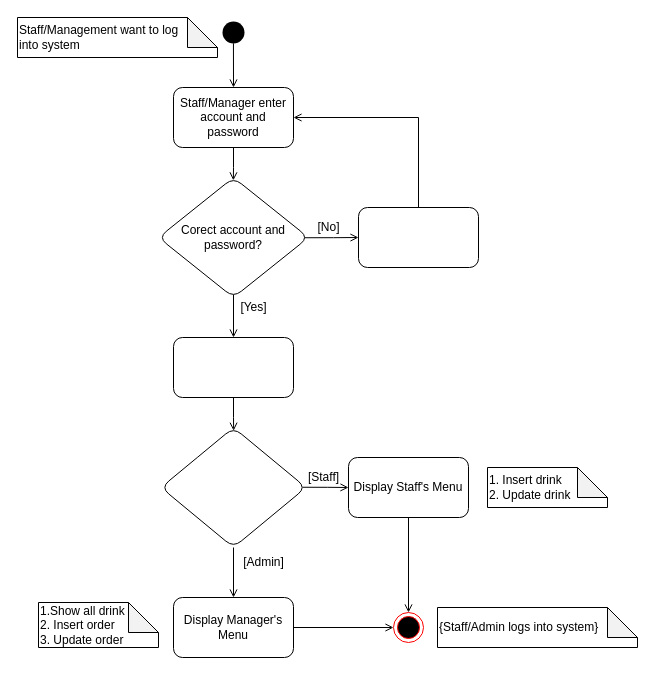
The diagram is 655 pixels wide and 675 high, and some of its shapes have lost their labels. The shapes that lost their labels are listed below. From the top down, each one's centre as x and y in pixels, then its label:
At pixel 418 237: "Incorrect account/password".
At pixel 233 367: "Logged in successfully".
At pixel 233 487: "Is Staff or Admin?".
